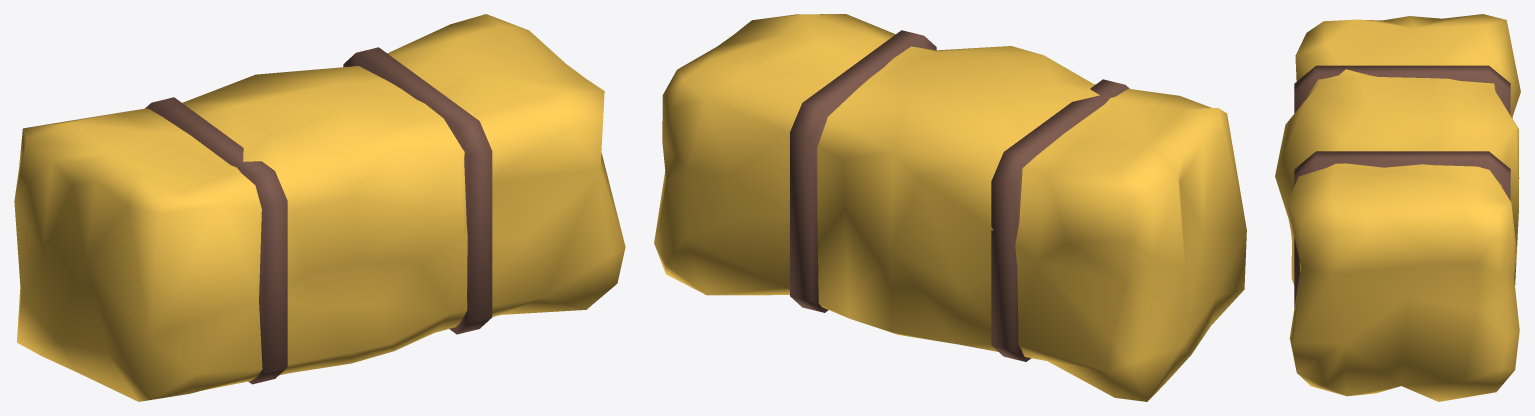
File: hay_002.glb
3 views of the same model, side by side, from view 1: azimuth 30°, elevation 25°; view 2: azimuth 150°, elevation 25°; view 3: azimuth 270°, elevation 25° (orthographic). The views are drawn at different scales.
Visible parts, largest first — view 1: hay_002; view 2: hay_002; view 3: hay_002.
Part boxes in pixels (box(x1,y1,x2,y2)): hay_002: box(14, 14, 625, 401); hay_002: box(654, 14, 1246, 401); hay_002: box(1275, 14, 1520, 401).
Bounding box in the file's own units: 2.56 × 1.13 × 1.25.
Materials: 1 (1 with a texture image).
